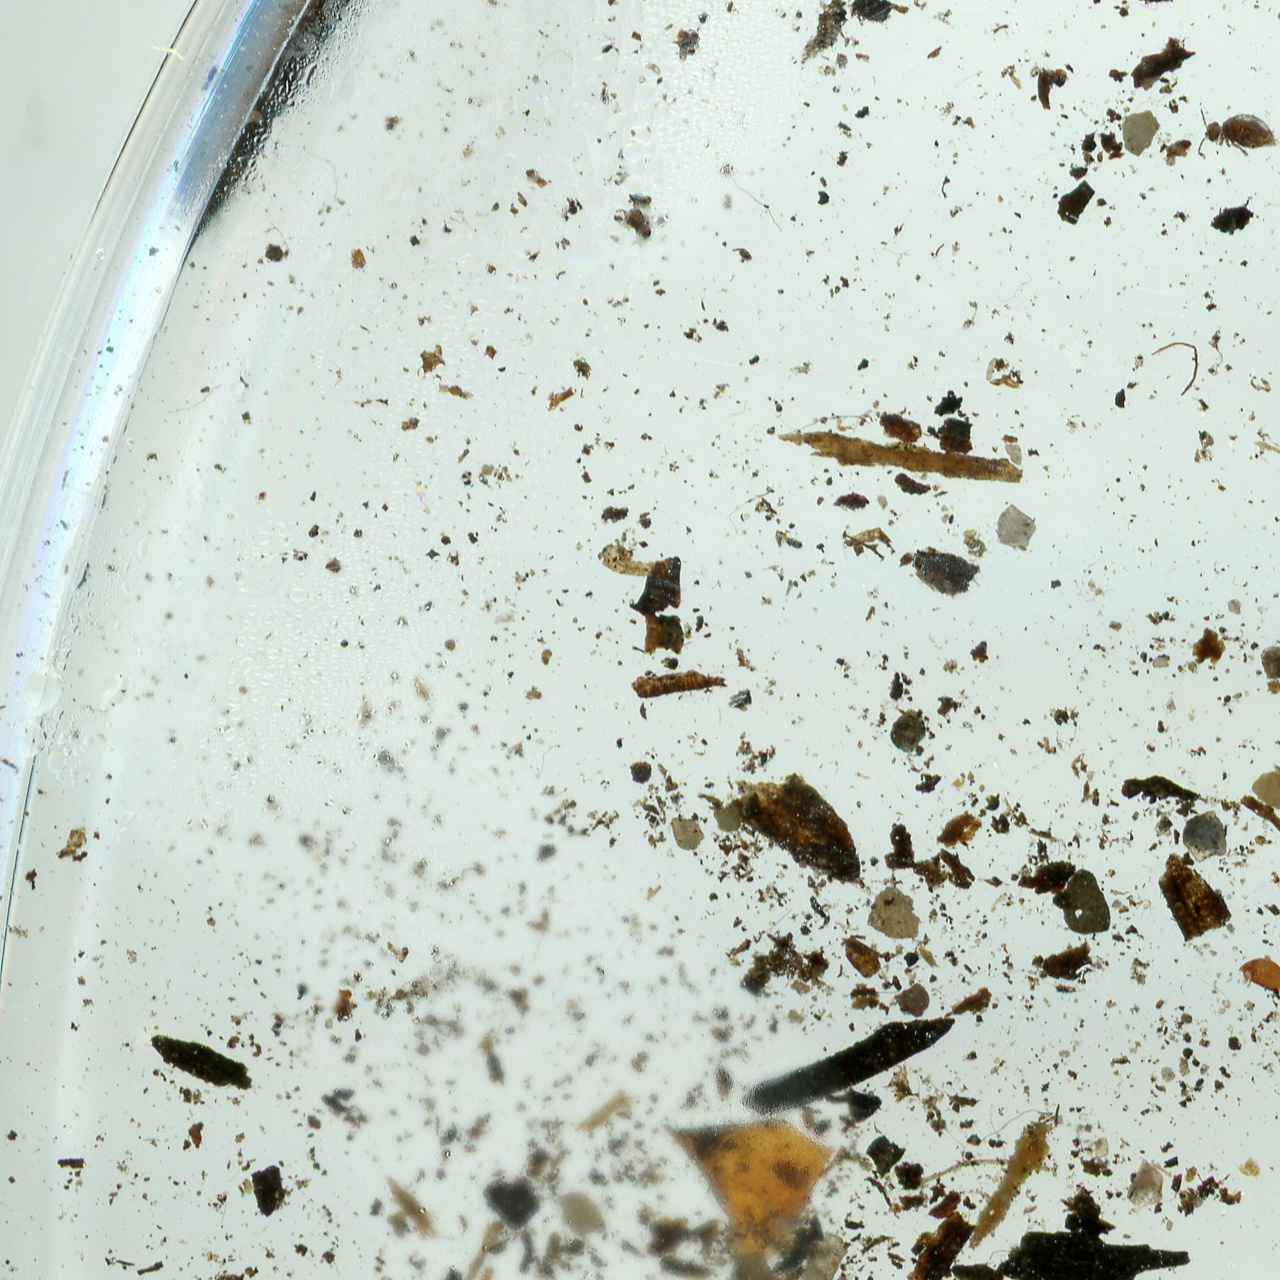arthropod: (1196, 105, 1278, 161), (1116, 1258, 1280, 1280), (1236, 955, 1280, 994)
